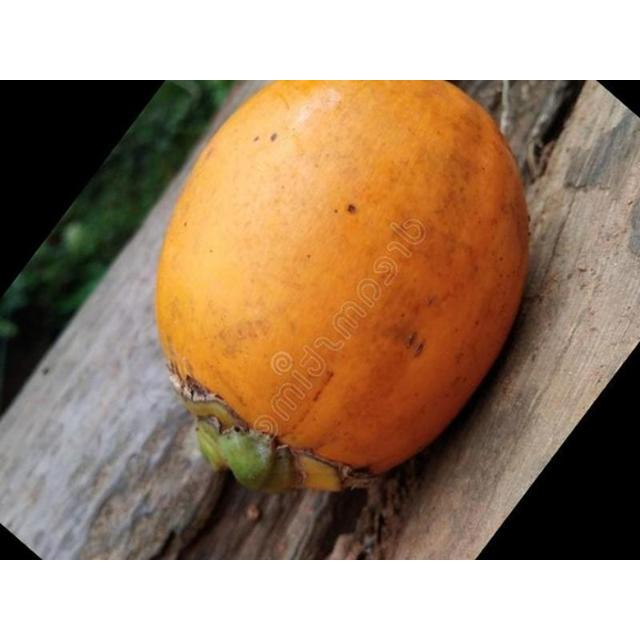good: (151, 80, 532, 496)
